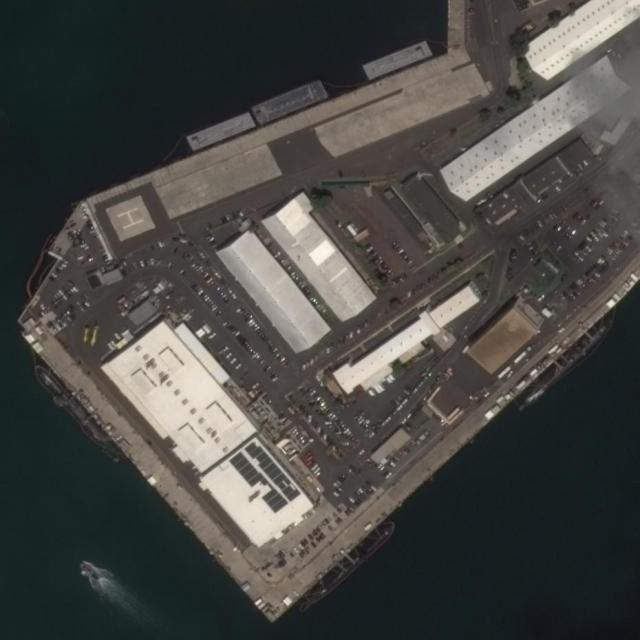Submarine: (515, 323, 610, 411), (304, 520, 398, 606), (32, 363, 110, 446)
